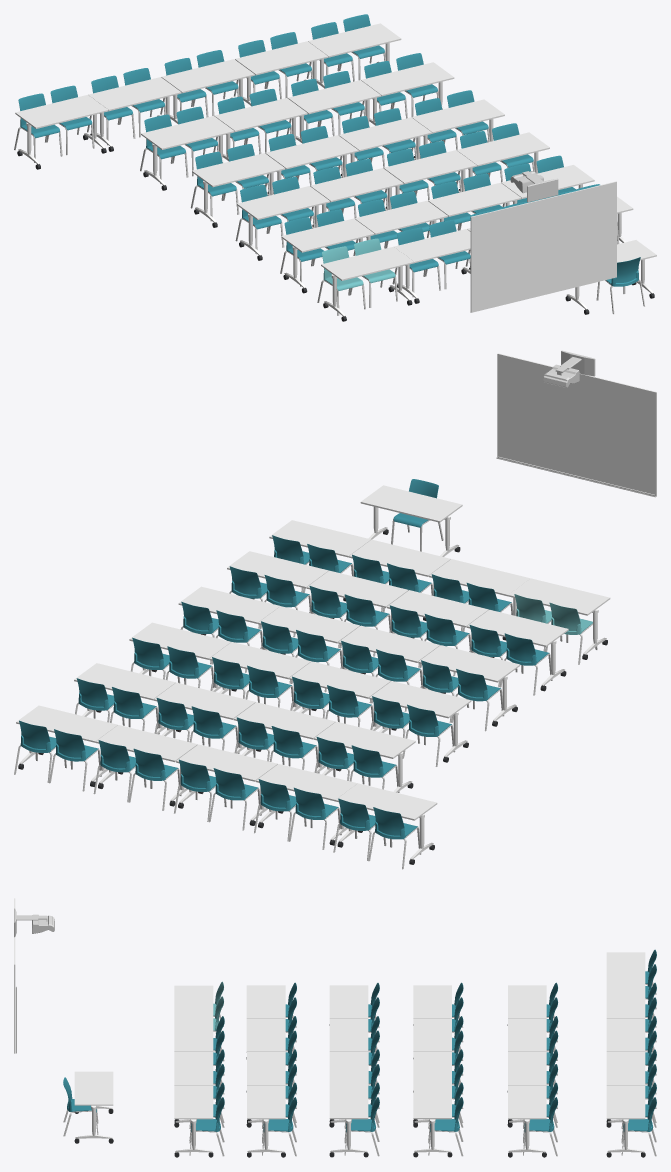
The model's file is SALLE_A6.fbx.
3 renders of one model, top to bottom at view 1: azimuth 30°, elevation 25°; view 2: azimuth 150°, elevation 25°; view 3: azimuth 270°, elevation 25°, orthographic. The views are drawn at different scales.
Visible parts, largest first — view 1: bureaux_doubles_A9, chaise_dossier_A6, tableau_A6, chaise_pieds_A6, tableau_projo_A6, bureaux_doubles_roues_A9; view 2: bureaux_doubles_A9, chaise_dossier_A6, tableau_A6, chaise_pieds_A6, tableau_projo_A6, bureaux_doubles_roues_A9; view 3: bureaux_doubles_A9, chaise_dossier_A6, chaise_pieds_A6, bureaux_doubles_roues_A9, tableau_projo_A6.
Boxes of the visible parts, left/top/right/bottom form: bureaux_doubles_A9: left=15, top=23, right=656, bottom=316; chaise_dossier_A6: left=18, top=14, right=640, bottom=290; tableau_A6: left=470, top=181, right=616, bottom=312; chaise_pieds_A6: left=14, top=51, right=645, bottom=315; tableau_projo_A6: left=510, top=171, right=558, bottom=202; bureaux_doubles_roues_A9: left=17, top=133, right=654, bottom=321; bureaux_doubles_A9: left=16, top=485, right=610, bottom=859; chaise_dossier_A6: left=19, top=479, right=592, bottom=839; tableau_A6: left=496, top=353, right=656, bottom=497; chaise_pieds_A6: left=14, top=518, right=597, bottom=869; tableau_projo_A6: left=543, top=350, right=595, bottom=387; bureaux_doubles_roues_A9: left=18, top=529, right=607, bottom=864; bureaux_doubles_A9: left=74, top=952, right=645, bottom=1152; chaise_dossier_A6: left=63, top=949, right=656, bottom=1132; chaise_pieds_A6: left=63, top=982, right=656, bottom=1156; bureaux_doubles_roues_A9: left=74, top=1024, right=645, bottom=1157; tableau_projo_A6: left=14, top=908, right=54, bottom=937.
Size of the model in its own units: 590 by 270 by 966.
